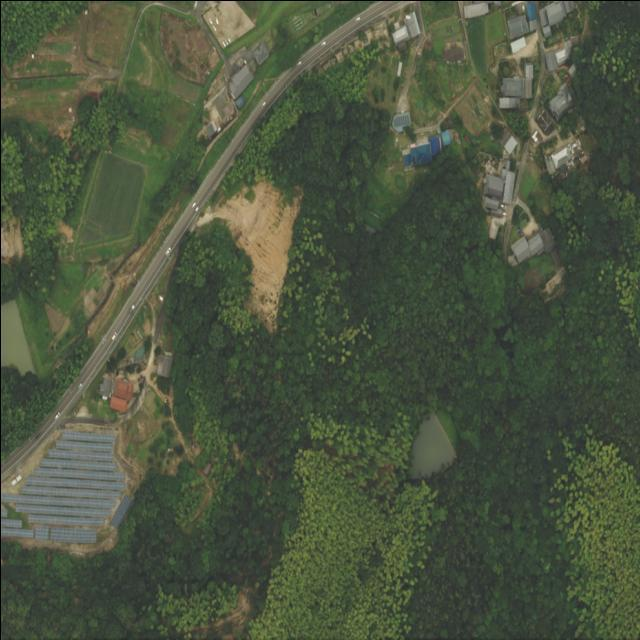landslide: (194, 180, 300, 332)
